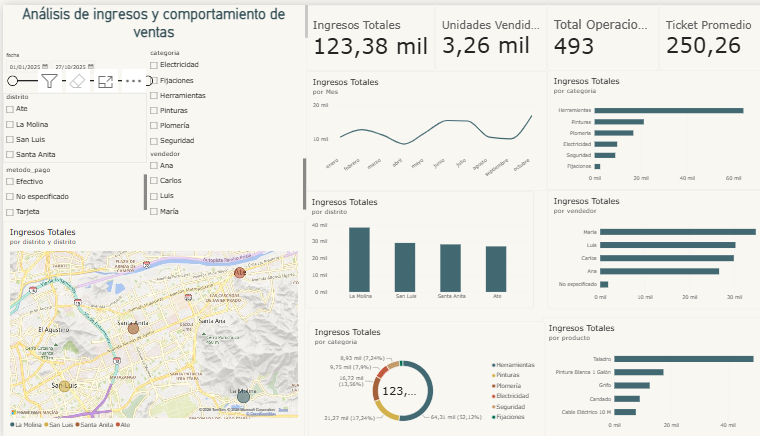

Layout of this report page (visuals, bound fields, positions):
{"tool":"powerbi","page":{"name":"Página 1","canvas":[1920,1080],"ordinal":0},"visuals":[{"type":"cardVisual","fields":{"Data":["analisis_ventas ventas.Ingresos Totales"]},"box":[757.5,0,322.5,165],"z":0},{"type":"cardVisual","fields":{"Data":["analisis_ventas ventas.Unidades Vendidas"]},"box":[1080.6,0,279.8,164],"z":1000},{"type":"cardVisual","fields":{"Data":["analisis_ventas ventas.Total Operaciones"]},"box":[1360.4,0,279.8,164],"z":2000},{"type":"cardVisual","fields":{"Data":["analisis_ventas ventas.Ticket Promedio"]},"box":[1640.2,0,279.8,164],"z":3000},{"type":"lineChart","fields":{"Category":["analisis_ventas ventas.fecha.Variation.Jerarquía de fechas.Mes"],"Y":["analisis_ventas ventas.Ingresos Totales"]},"box":[757.5,165,602.5,300],"z":4000},{"type":"clusteredBarChart","fields":{"Category":["analisis_ventas ventas.categoria"],"Y":["analisis_ventas ventas.Ingresos Totales"]},"box":[1360,163.3,560,300],"z":5000},{"type":"clusteredBarChart","fields":{"Category":["analisis_ventas ventas.producto"],"Y":["analisis_ventas ventas.Ingresos Totales"]},"box":[1347.5,780,571.7,300],"z":6000},{"type":"clusteredColumnChart","fields":{"Category":["analisis_ventas ventas.distrito"],"Y":["analisis_ventas ventas.Ingresos Totales"]},"box":[755,465,571.7,293.3],"z":7000},{"type":"clusteredBarChart","fields":{"Category":["analisis_ventas ventas.vendedor"],"Y":["analisis_ventas ventas.Ingresos Totales"]},"box":[1360,463.3,560,298.3],"z":8000},{"type":"map","fields":{"Category":["analisis_ventas ventas.distrito"],"Series":["analisis_ventas ventas.distrito"],"Size":["analisis_ventas ventas.Ingresos Totales"]},"box":[0,540,755,540],"z":9000},{"type":"donutChart","fields":{"Category":["analisis_ventas ventas.categoria"],"Y":["analisis_ventas ventas.Ingresos Totales"]},"box":[762.5,790,592.5,290],"z":10000},{"type":"slicer","fields":{"Values":["analisis_ventas ventas.fecha"]},"box":[0,117.5,377.5,102.5],"z":11000},{"type":"slicer","fields":{"Values":["analisis_ventas ventas.categoria"]},"box":[360,110,397.5,252.5],"z":12000},{"type":"slicer","fields":{"Values":["analisis_ventas ventas.distrito"]},"box":[0,220,360,175],"z":13000},{"type":"slicer","fields":{"Values":["analisis_ventas ventas.vendedor"]},"box":[360,362.5,397.5,177.5],"z":14000},{"type":"slicer","fields":{"Values":["analisis_ventas ventas.metodo_pago"]},"box":[0,402.5,360,137.5],"z":15000},{"type":"textbox","box":[0,0,762.5,85],"z":15001}]}

Visuals, with their boxes in screenshot pixels (x1, y1, x2, y2), scaled from the page's 1920x1080 canvas onto the 760x436 screenshot:
cardVisual - analisis_ventas ventas.Ingresos Totales: select_region(300, 0, 428, 67)
cardVisual - analisis_ventas ventas.Unidades Vendidas: select_region(428, 0, 538, 66)
cardVisual - analisis_ventas ventas.Total Operaciones: select_region(538, 0, 649, 66)
cardVisual - analisis_ventas ventas.Ticket Promedio: select_region(649, 0, 759, 66)
lineChart - analisis_ventas ventas.fecha.Variation.Jerarquía de fechas.Mes x analisis_ventas ventas.Ingresos Totales: select_region(300, 67, 538, 188)
clusteredBarChart - analisis_ventas ventas.categoria x analisis_ventas ventas.Ingresos Totales: select_region(538, 66, 759, 187)
clusteredBarChart - analisis_ventas ventas.producto x analisis_ventas ventas.Ingresos Totales: select_region(533, 315, 759, 435)
clusteredColumnChart - analisis_ventas ventas.distrito x analisis_ventas ventas.Ingresos Totales: select_region(299, 188, 525, 306)
clusteredBarChart - analisis_ventas ventas.vendedor x analisis_ventas ventas.Ingresos Totales: select_region(538, 187, 759, 307)
map - analisis_ventas ventas.distrito x analisis_ventas ventas.distrito: select_region(0, 218, 299, 435)
donutChart - analisis_ventas ventas.categoria x analisis_ventas ventas.Ingresos Totales: select_region(302, 319, 536, 435)
slicer - analisis_ventas ventas.fecha: select_region(0, 47, 149, 89)
slicer - analisis_ventas ventas.categoria: select_region(142, 44, 300, 146)
slicer - analisis_ventas ventas.distrito: select_region(0, 89, 142, 159)
slicer - analisis_ventas ventas.vendedor: select_region(142, 146, 300, 218)
slicer - analisis_ventas ventas.metodo_pago: select_region(0, 162, 142, 218)
textbox: select_region(0, 0, 302, 34)
